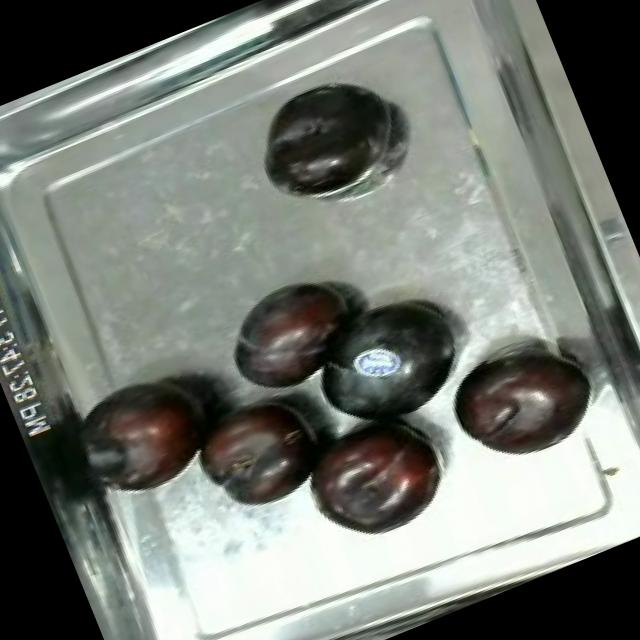Fruit: (288, 271, 484, 450), (286, 398, 464, 560), (433, 320, 610, 481), (237, 59, 413, 214), (206, 258, 376, 412), (65, 356, 232, 510), (177, 375, 339, 527)
